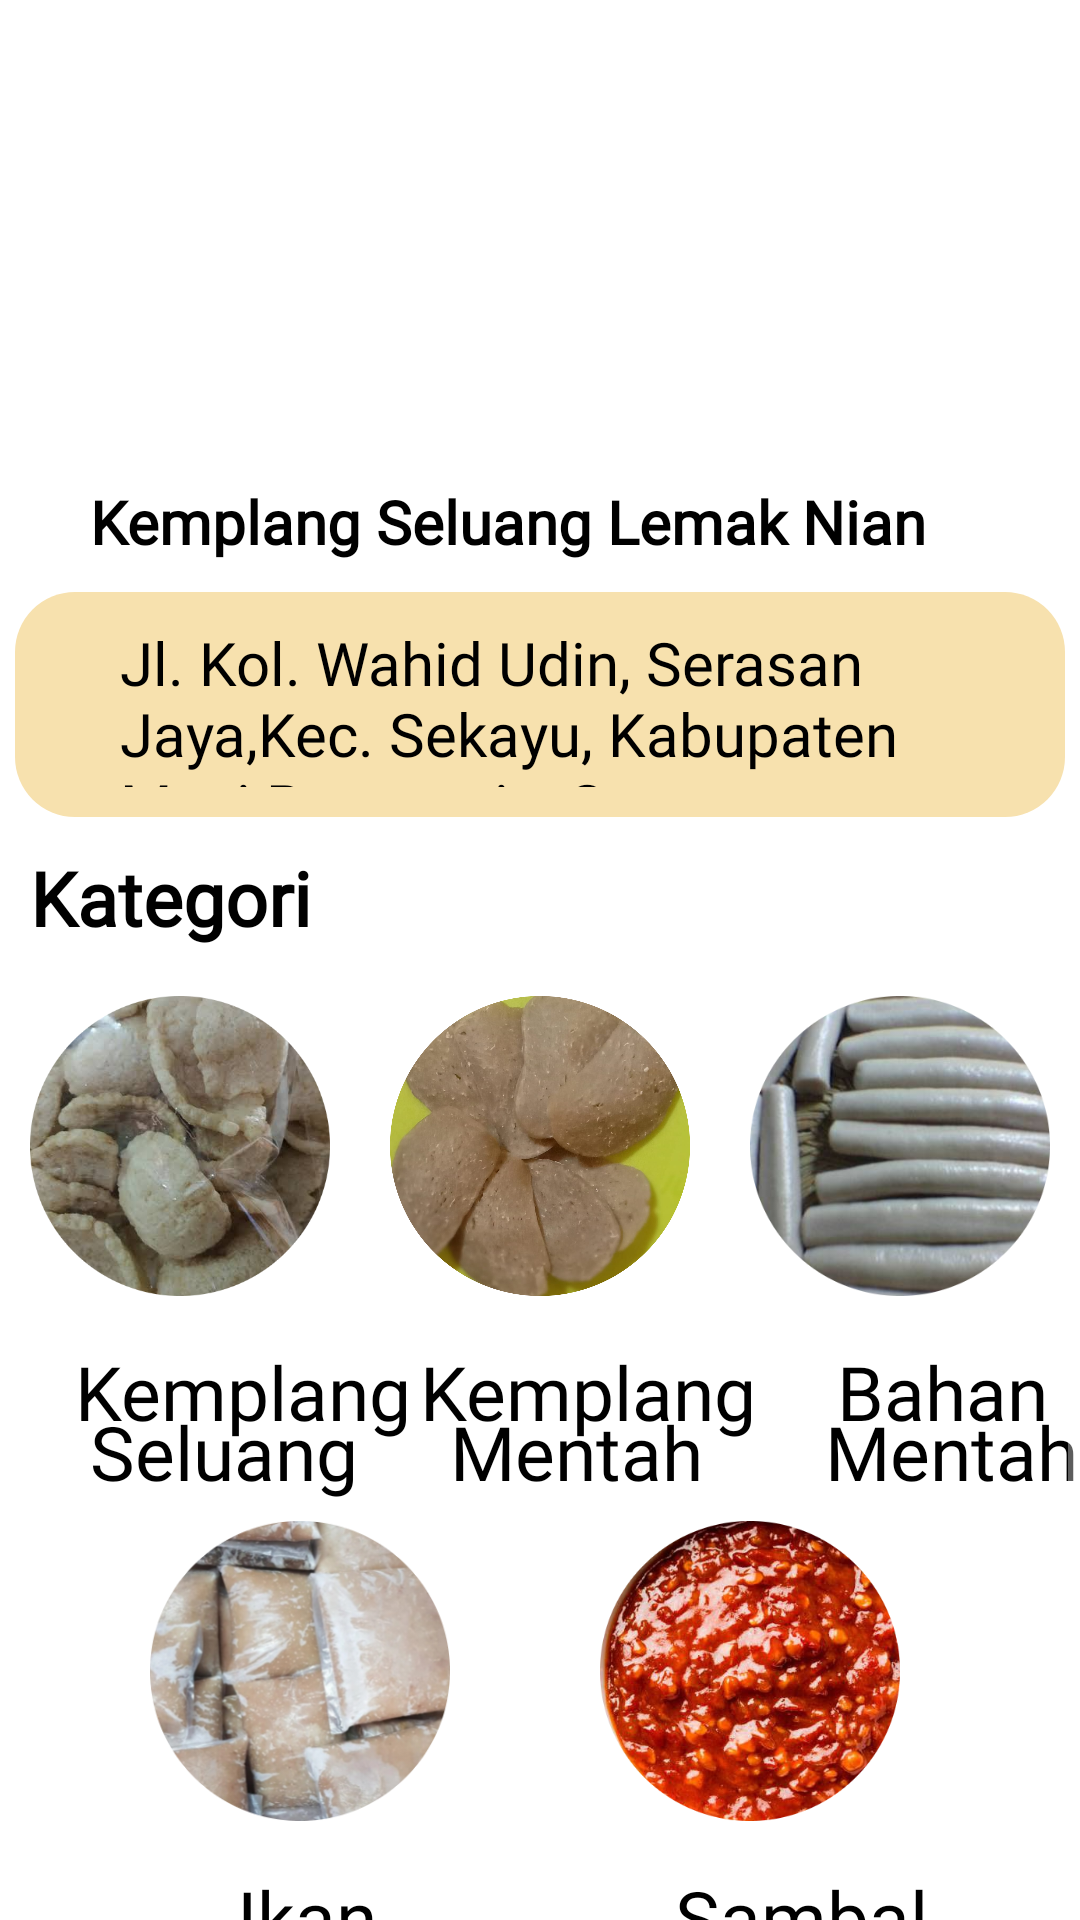

Named icons in this screenshot (1080w x 1920h) and their centers, (x=x, y=y):
giling: (x=300, y=1671)
